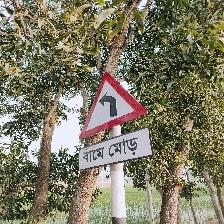Left-Turn: (77, 70, 154, 172)
